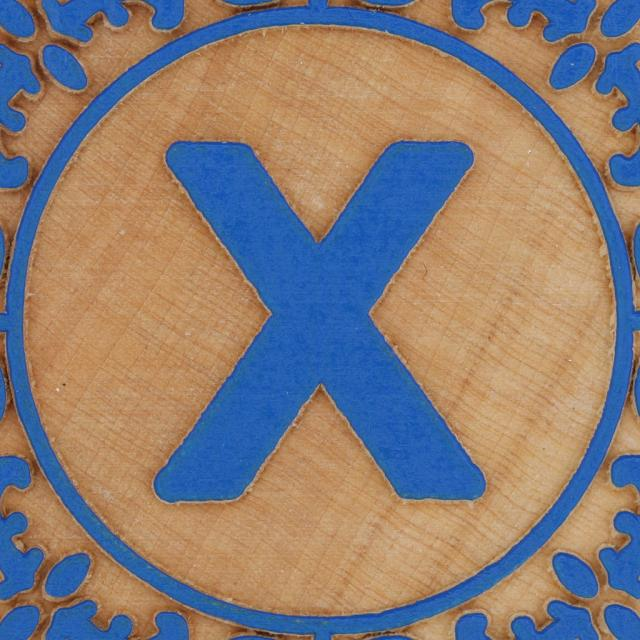X: (143, 112, 518, 526)
